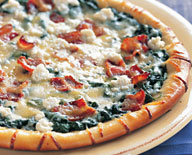pizza: (0, 0, 187, 146)
